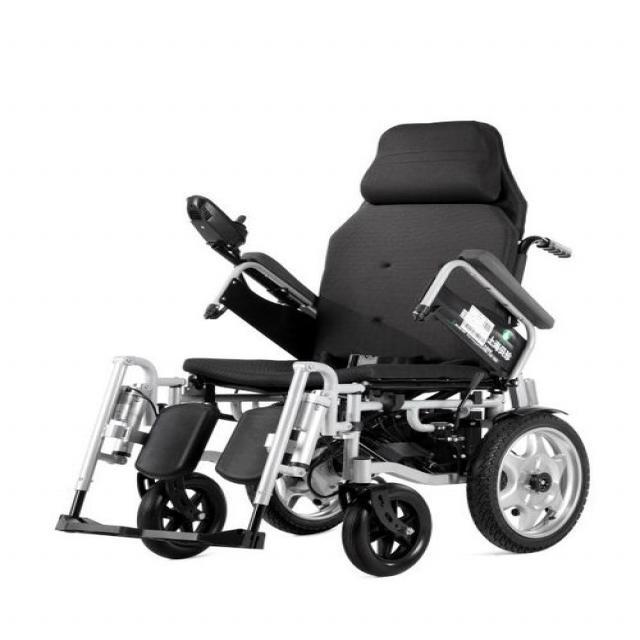wheelchair: (44, 98, 624, 578)
